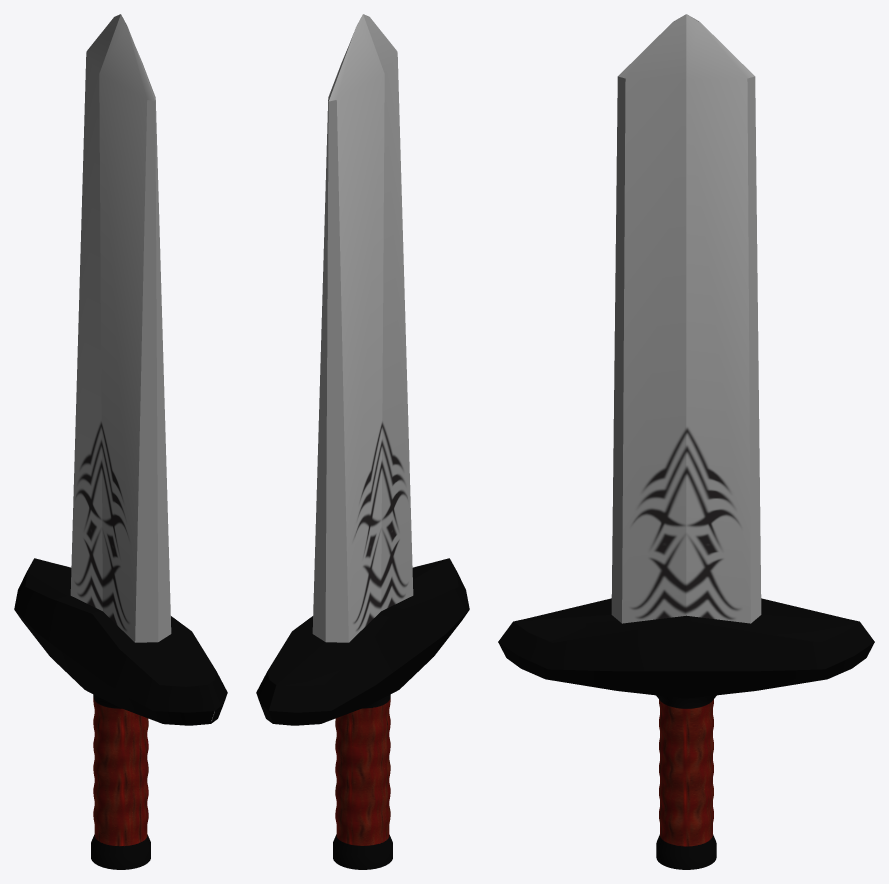
File: sword.glb
3 renders of one model, left to right at view 1: azimuth 30°, elevation 25°; view 2: azimuth 150°, elevation 25°; view 3: azimuth 270°, elevation 25°, orthographic.
Parts seen in each view (by area): view 1: Cube; view 2: Cube; view 3: Cube.
Boxes of the visible parts, x1,y1,x2,y2 form: Cube: (14,14,227,869); Cube: (256,14,469,869); Cube: (498,14,874,869).
Bounding box in the file's own units: 0.6689 × 5.63 × 2.28.
Materials: 1 (1 with a texture image).
